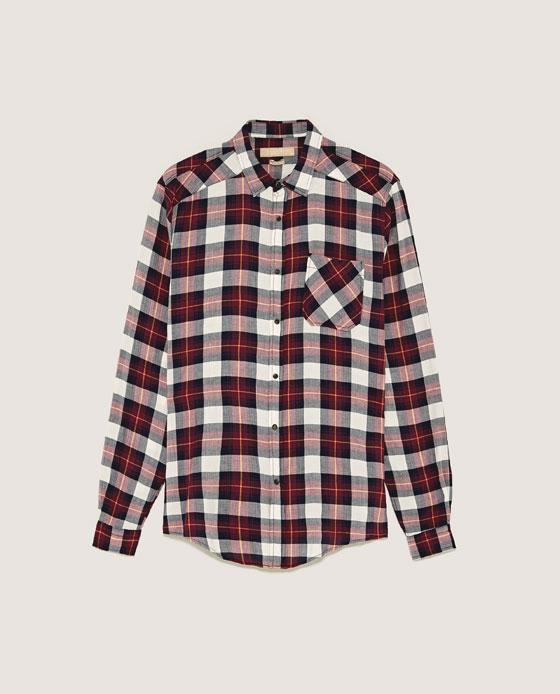teeshirt: (89, 121, 459, 570)
